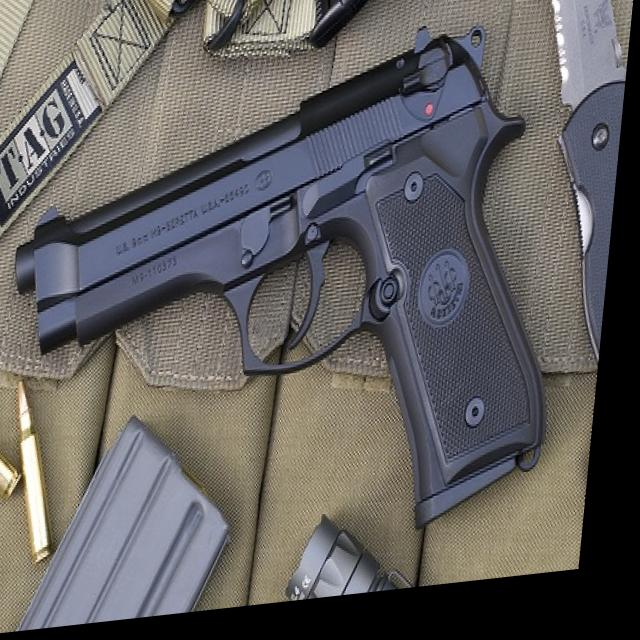handgun: (0, 20, 585, 572)
